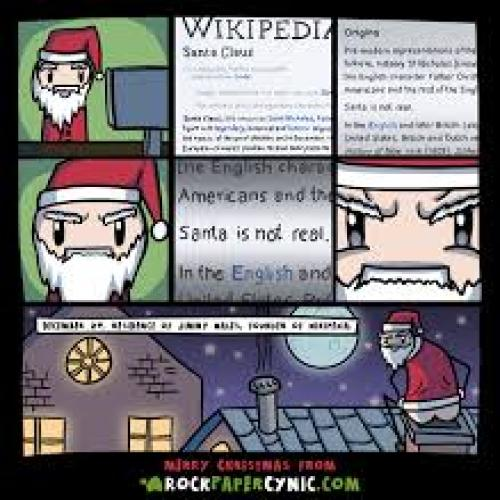Santa: (31, 155, 168, 302), (378, 308, 472, 424), (30, 24, 104, 140)
